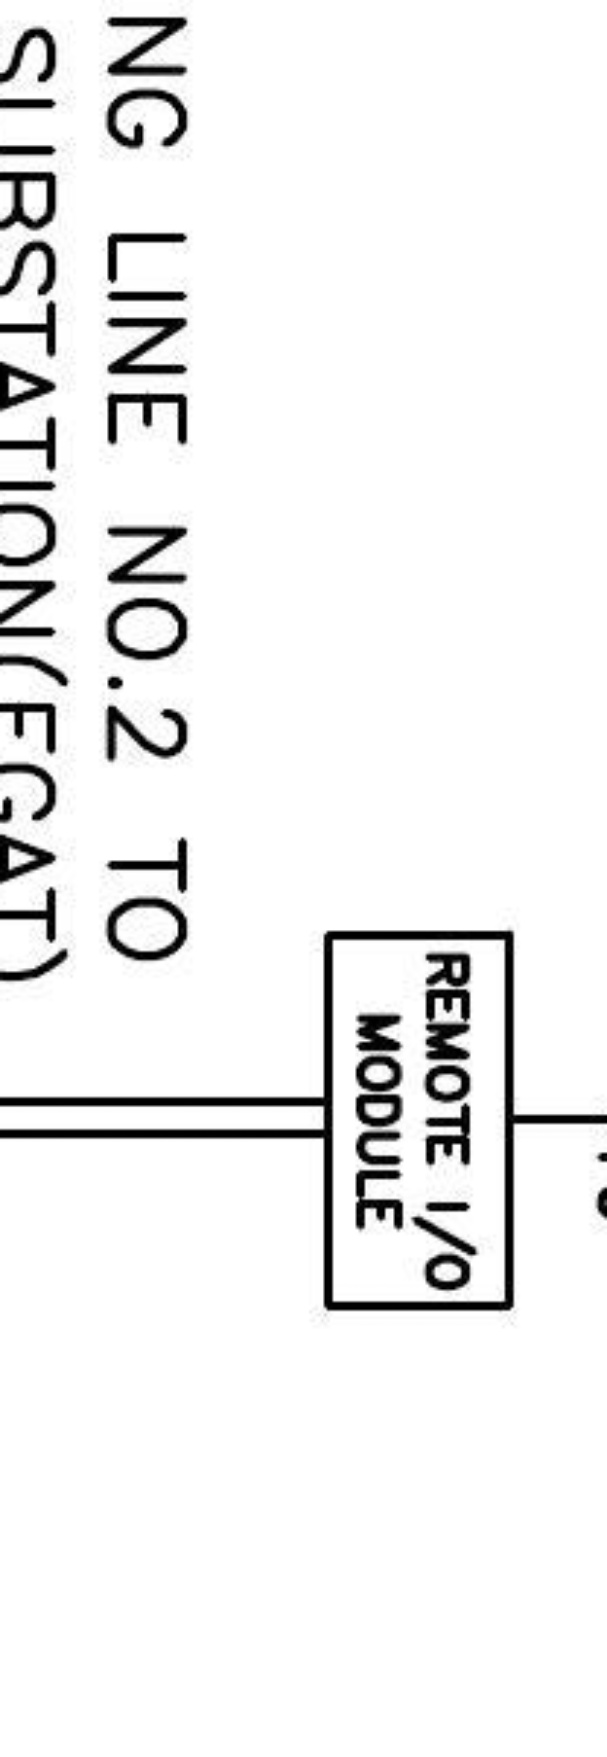remote_io_module: (324, 929, 515, 1312)
